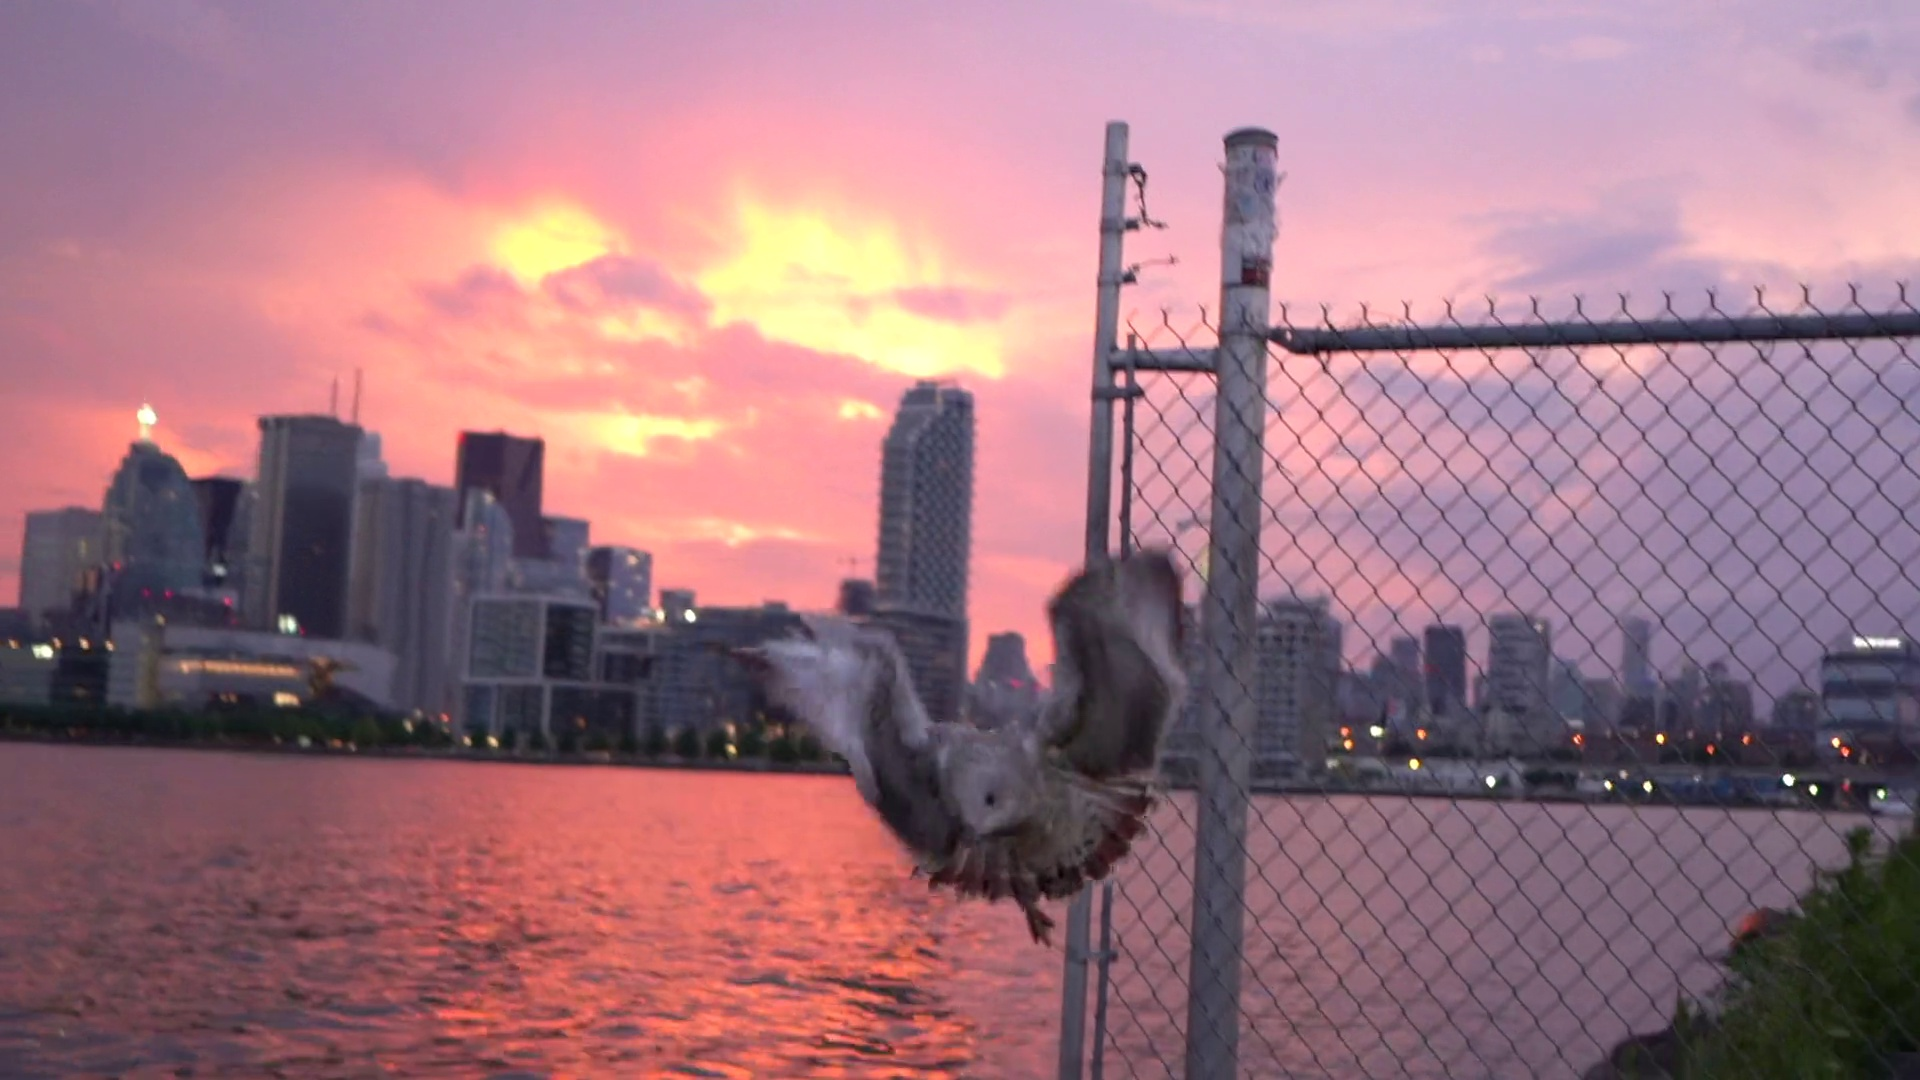bird: (727, 537, 1185, 945)
